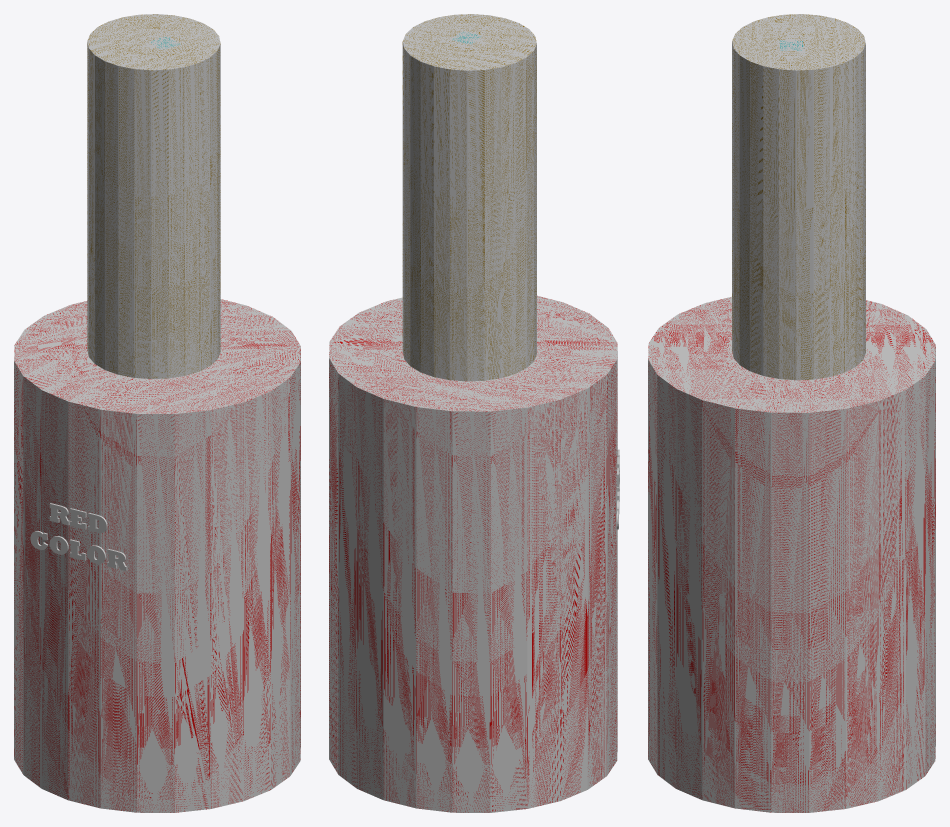
3 views of the same model, side by side, from view 1: azimuth 30°, elevation 25°; view 2: azimuth 150°, elevation 25°; view 3: azimuth 270°, elevation 25° (orthographic).
Parts seen in each view (by area): view 1: mesh26_mesh26-geometry; view 2: mesh26_mesh26-geometry; view 3: mesh26_mesh26-geometry.
Part boxes in pixels (x1,y1,x2,y2): mesh26_mesh26-geometry: (14,14,300,812); mesh26_mesh26-geometry: (329,14,617,812); mesh26_mesh26-geometry: (648,14,935,812).
Bounding box in the file's own units: 0.3394 × 0.8829 × 0.3244.
